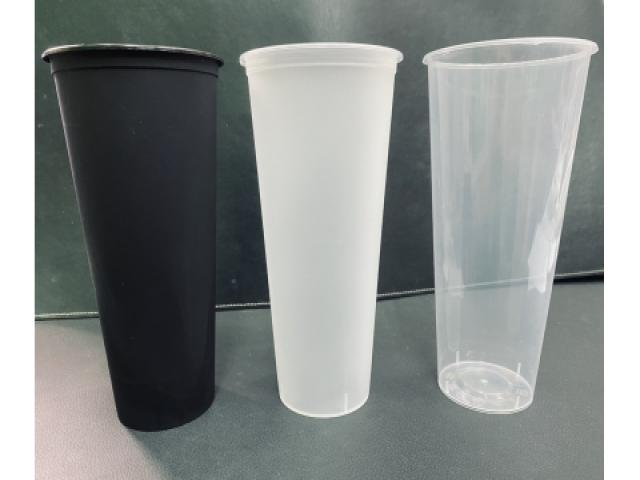cup: (424, 39, 598, 413), (240, 42, 402, 417)
